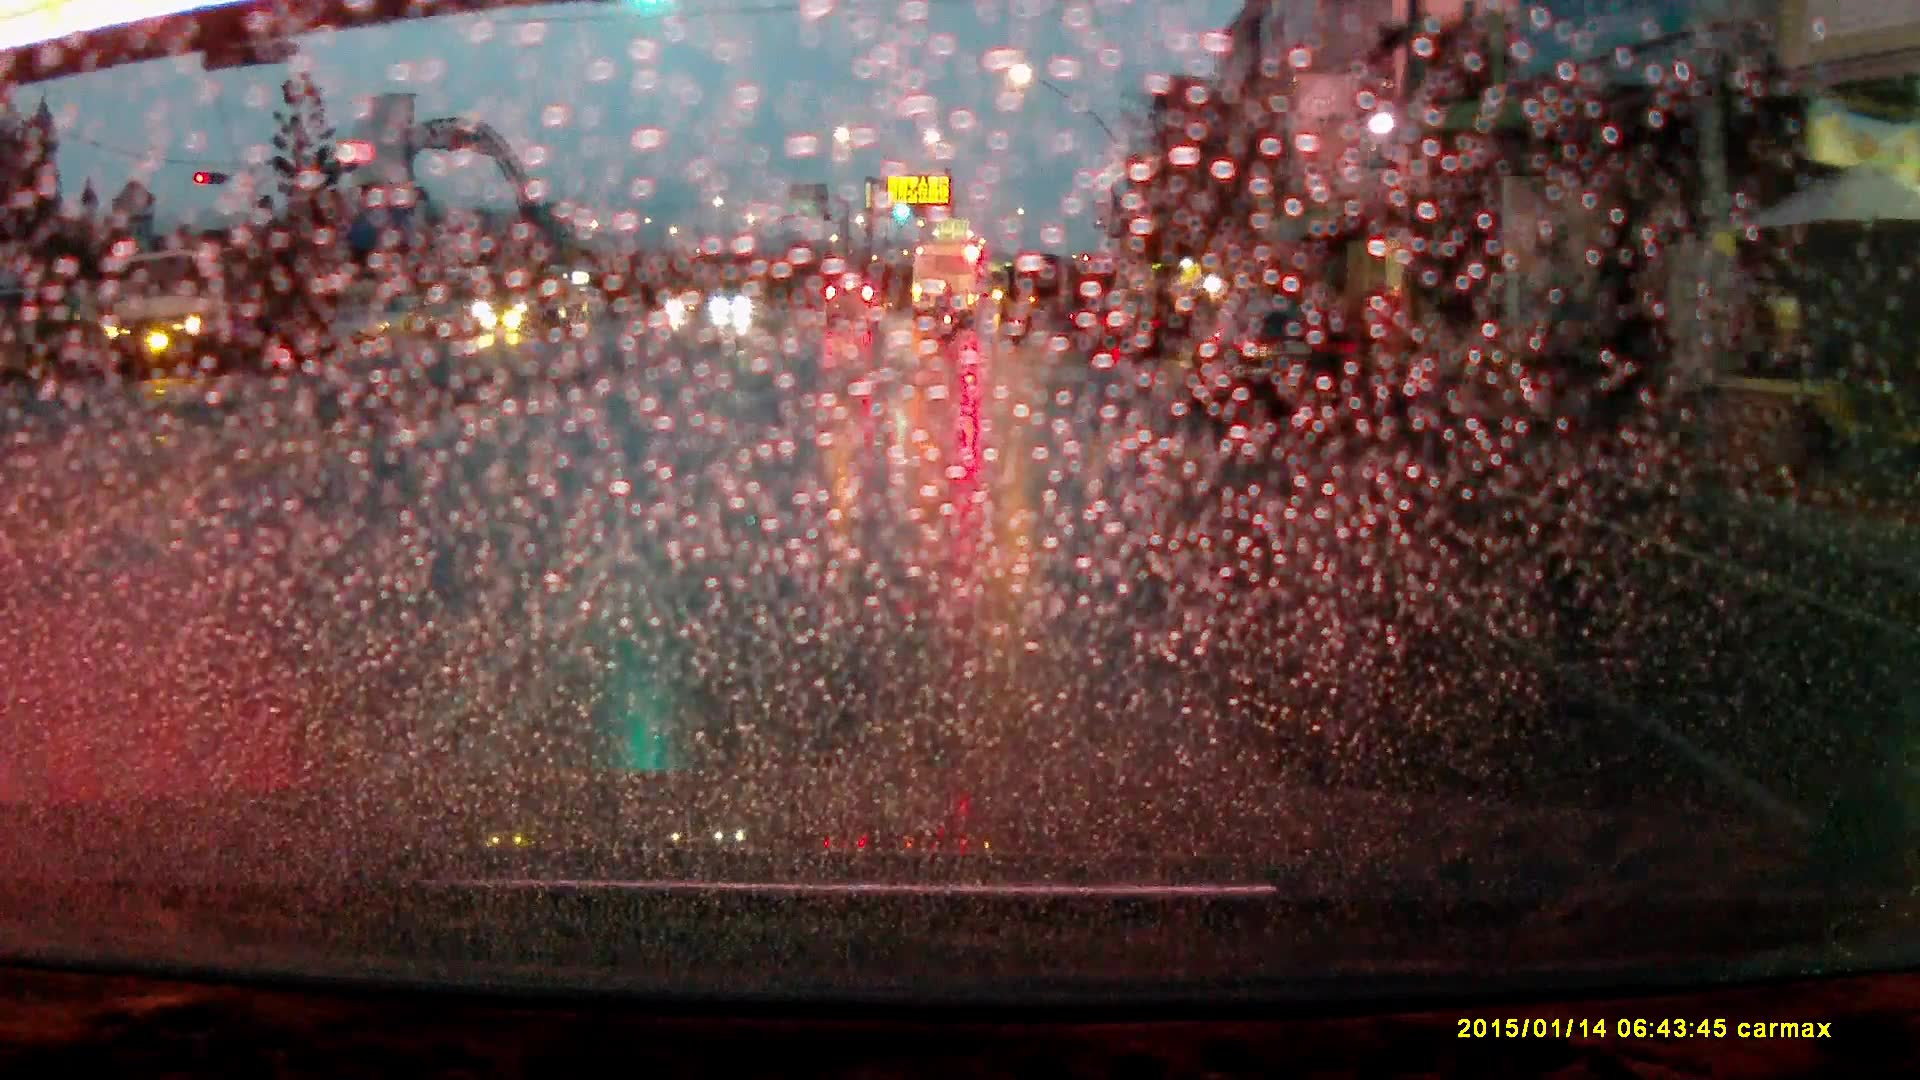rider: (936, 289, 963, 351)
vehicle: (97, 250, 307, 381), (1190, 311, 1374, 422), (476, 264, 579, 340), (911, 244, 980, 330), (1084, 303, 1166, 360), (825, 286, 884, 334), (709, 293, 756, 322)
